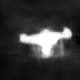plane: (16, 25, 74, 61)
